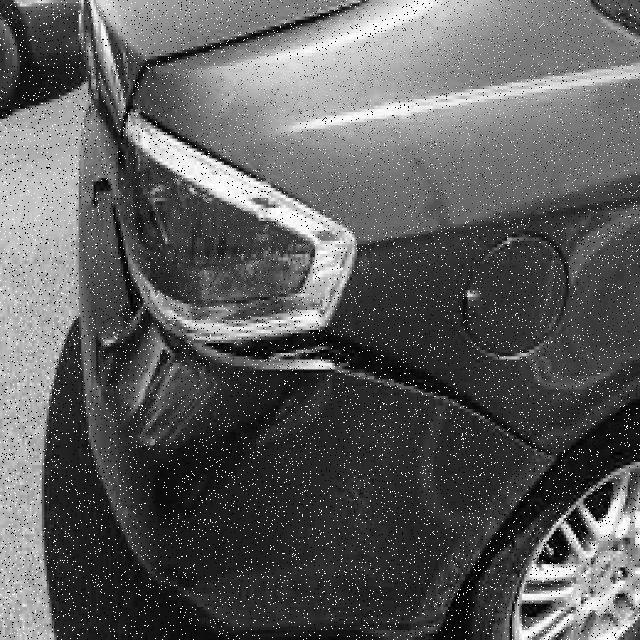rear-bumper-dent: (84, 331, 544, 638)
